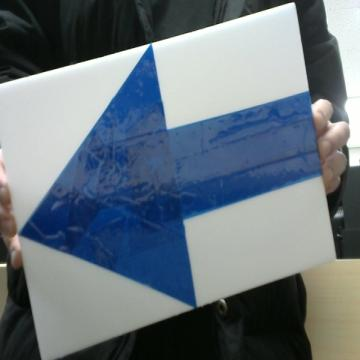blue_left: (22, 45, 317, 305)
